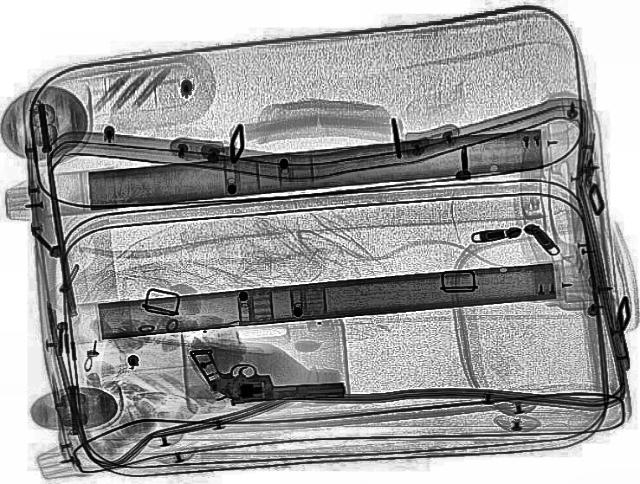Gun: (186, 336, 348, 408)
